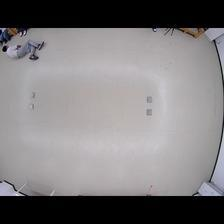fall: (2, 37, 46, 63)
